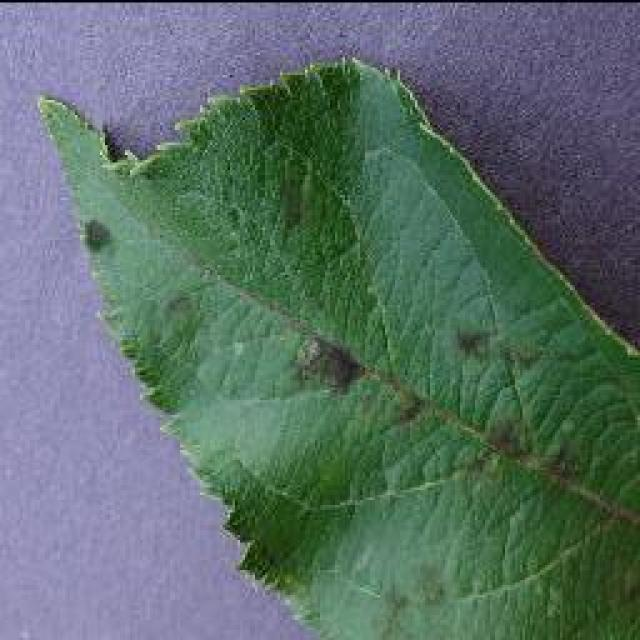apple scab disease: (35, 52, 637, 638)
